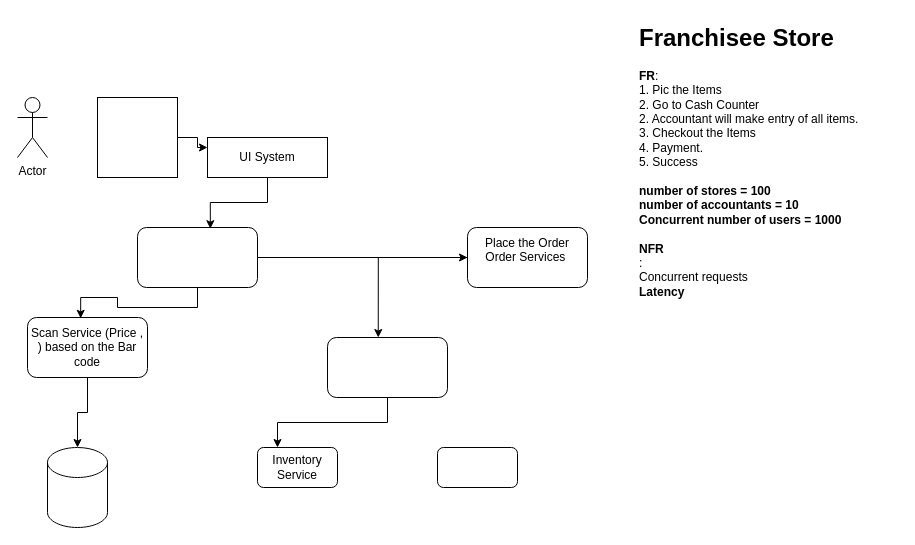
Image size: 915x545. Some labels were removed from this diagram. Here are the shapes that lost their labels. From the top down, the box of each, then its label:
(96, 96, 178, 178): Accountant system
(136, 226, 258, 288): Add Items to Cart Cart Services
(326, 336, 448, 398): Payment Service
